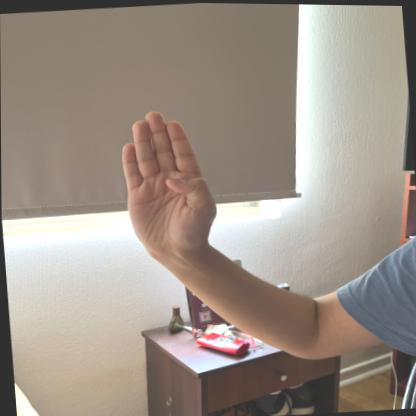B: (116, 102, 222, 258)
